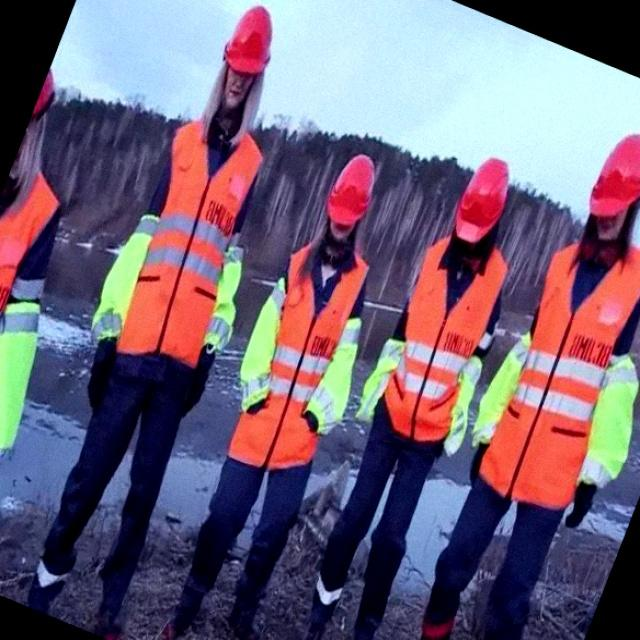helmet: (442, 157, 518, 258), (317, 149, 384, 236), (579, 136, 640, 222), (213, 7, 281, 83)
safety_vest: (487, 244, 638, 530), (108, 120, 250, 380), (236, 248, 362, 467), (382, 245, 496, 458)
